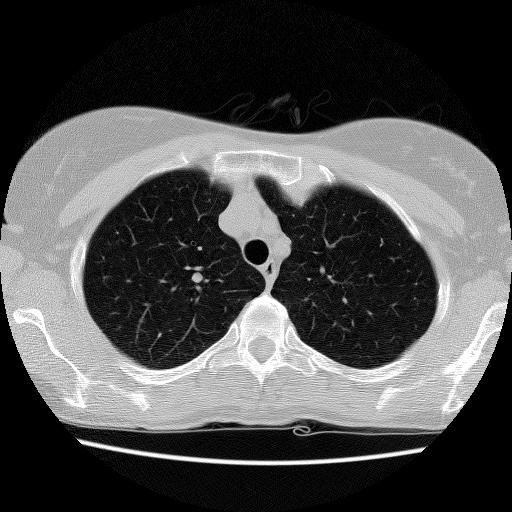nodule: (188, 269, 206, 287)
